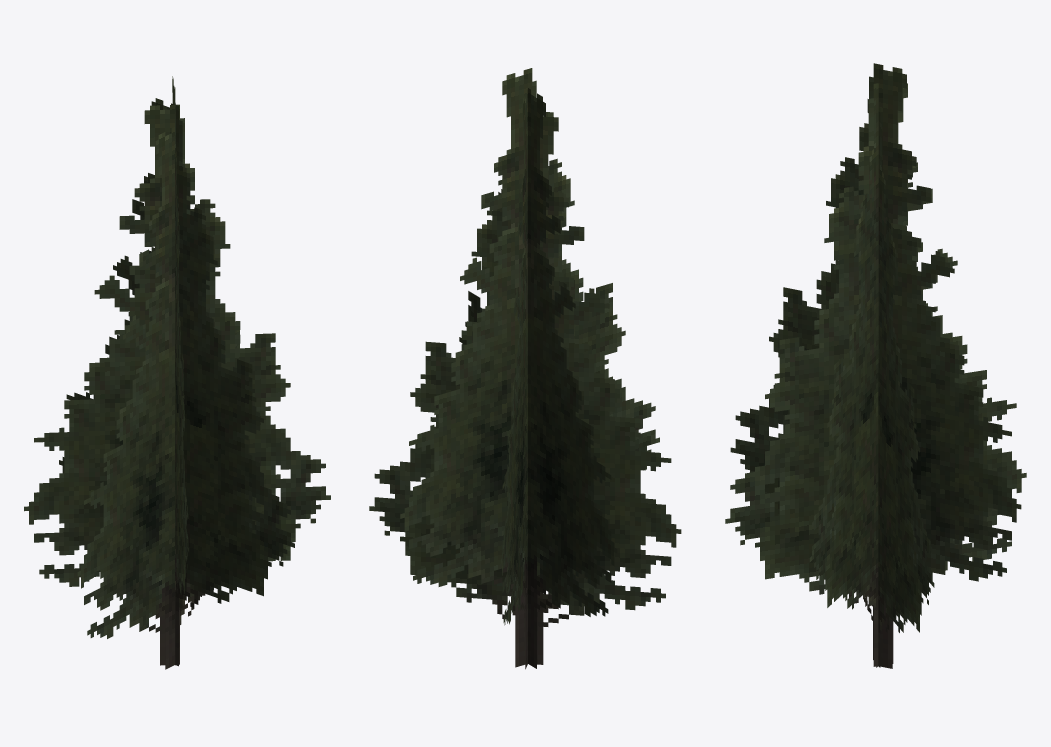
File: small_tree_rt_1.glb
3 views of the same model, side by side, from view 1: azimuth 30°, elevation 25°; view 2: azimuth 150°, elevation 25°; view 3: azimuth 270°, elevation 25° (orthographic). The views are drawn at different scales.
Parts seen in each view (by area): view 1: small_tree_rt_1; view 2: small_tree_rt_1; view 3: small_tree_rt_1.
Part boxes in pixels (x1,y1,x2,y2): small_tree_rt_1: [24, 76, 330, 669]; small_tree_rt_1: [369, 68, 681, 669]; small_tree_rt_1: [725, 63, 1026, 668].
Size of the model in its own units: 0.5779 by 1.22 by 0.5779.
Materials: 1 (1 with a texture image).
